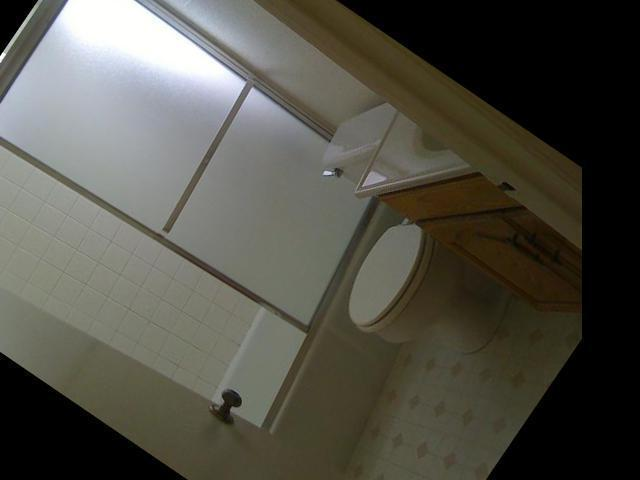Ducha: (0, 0, 456, 480)
Lavamanos: (331, 58, 503, 230)
